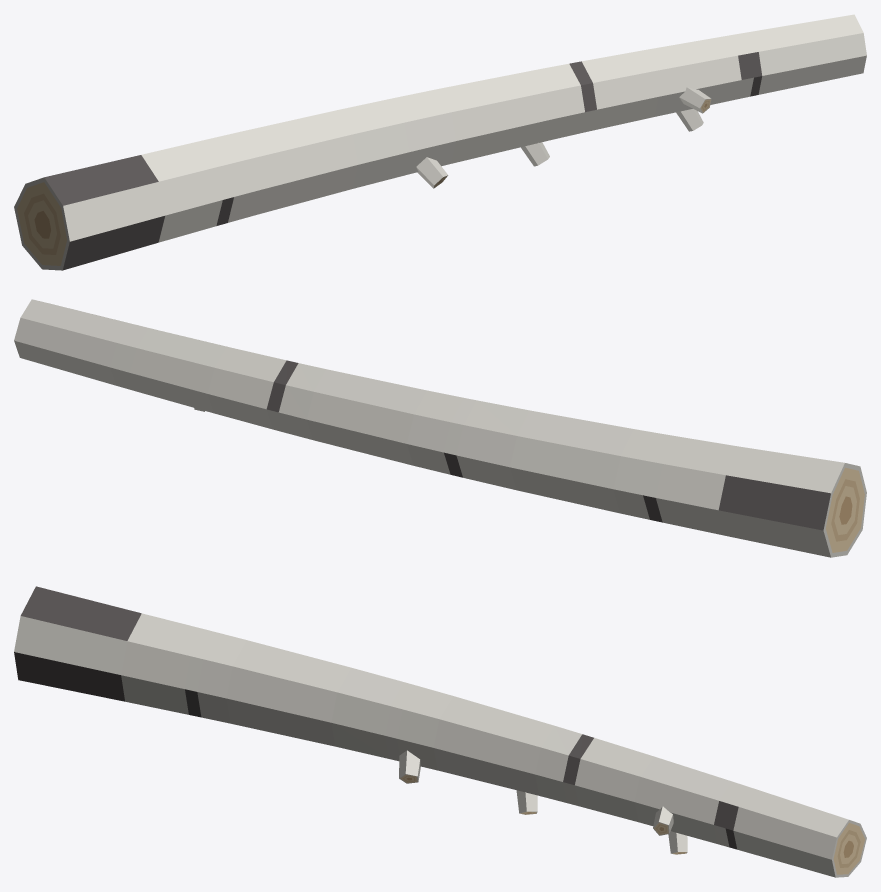
Rendered from birch_trunk.glb.
3 renders of one model, top to bottom at view 1: azimuth 30°, elevation 25°; view 2: azimuth 150°, elevation 25°; view 3: azimuth 330°, elevation 25°, orthographic.
Visible parts, largest first — view 1: BirchTrunk; view 2: BirchTrunk; view 3: BirchTrunk.
Boxes of the visible parts, x1,y1,x2,y2 form: BirchTrunk: [14, 14, 866, 270]; BirchTrunk: [14, 299, 866, 557]; BirchTrunk: [14, 586, 866, 877].
Size of the model in its own units: 3.02 by 0.383 by 0.359.
